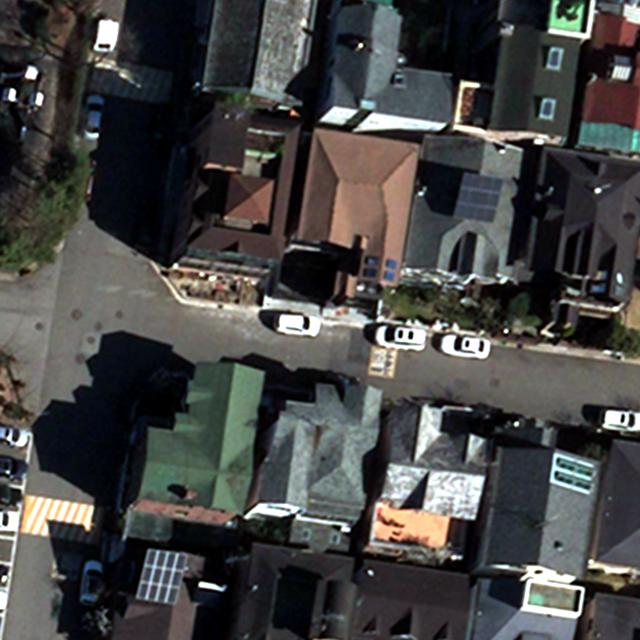panel: (132, 546, 193, 610), (453, 169, 505, 225)
